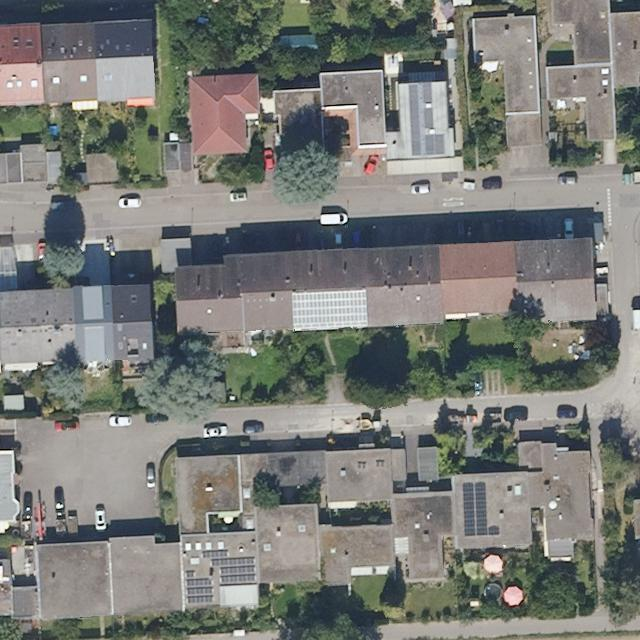PV: (461, 478, 502, 540), (199, 547, 259, 587), (419, 80, 447, 157), (182, 567, 216, 606), (407, 82, 423, 159)
